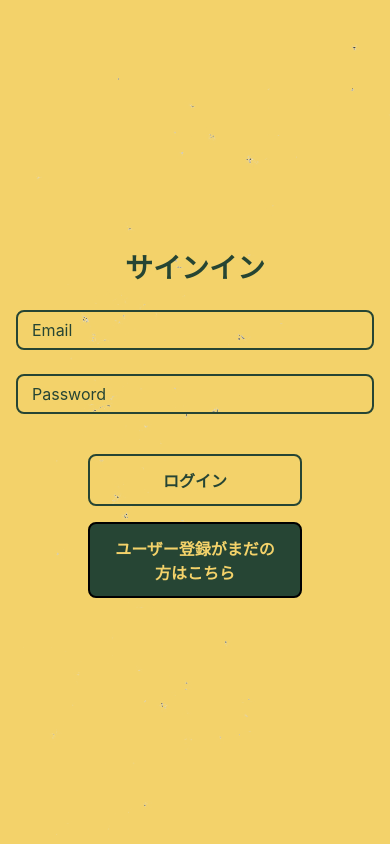
Scenario: SignInScreen › 未入力でログインを押すとバリデーションエラーが表示される
Click the text "ログイン" at (195, 480), box [163,468,227,492]
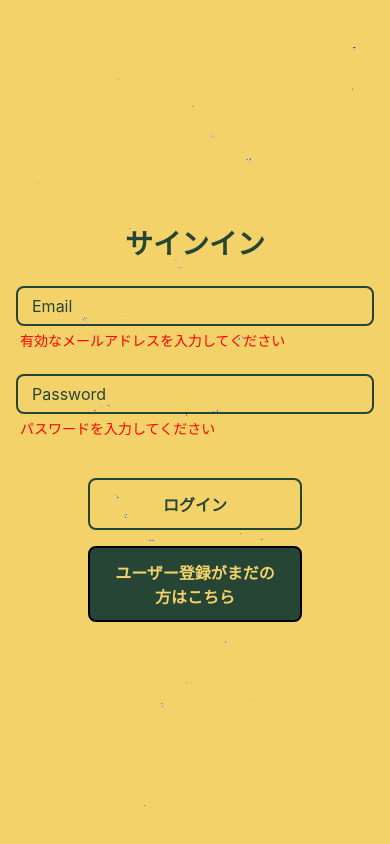
Check: the text "有効なメールアドレスを入力してください" is shown, box [20,332,285,349]
Check: the text "パスワードを入力してください" is shown, box [20,420,215,437]
